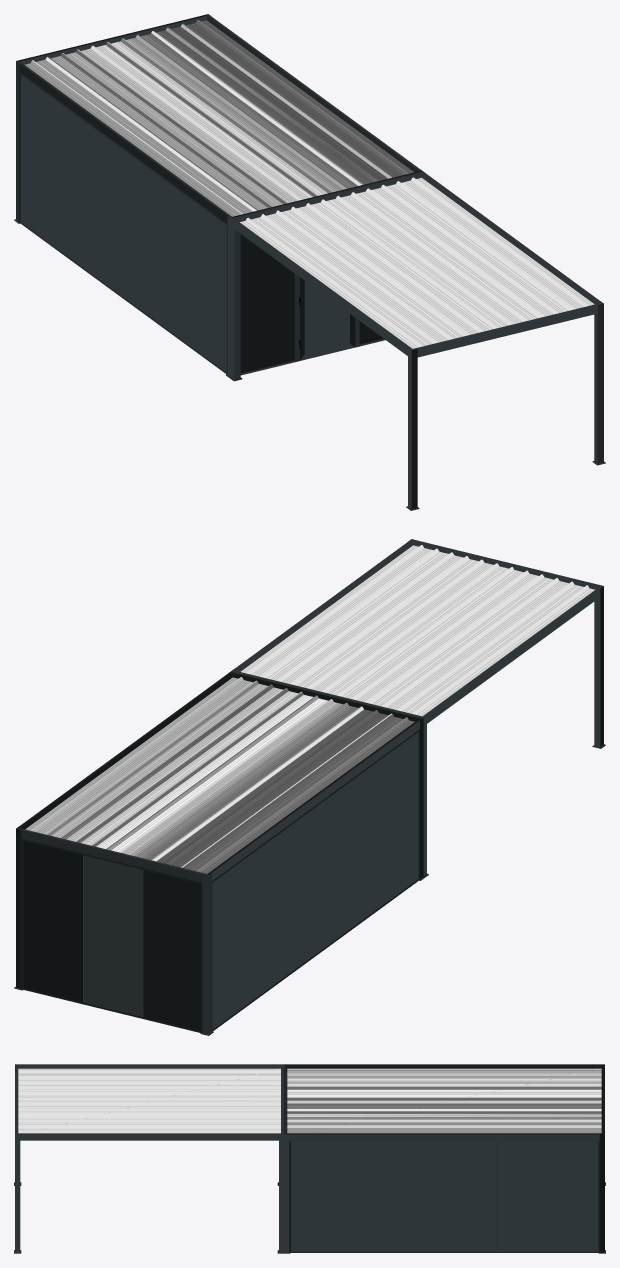
File: 13443_carport5x3abri6x3.fbx
3 renders of one model, top to bottom at view 1: azimuth 30°, elevation 25°; view 2: azimuth 150°, elevation 25°; view 3: azimuth 270°, elevation 25°, orthographic. The views are drawn at different scales.
Parts seen in each view (by area): view 1: priximbattable_net_abris_de_voiture_13443_module_carport_abr, folha; view 2: priximbattable_net_abris_de_voiture_13443_module_carport_abr; view 3: priximbattable_net_abris_de_voiture_13443_module_carport_abr.
Boxes of the visible parts, x1,y1,x2,y2 form: priximbattable_net_abris_de_voiture_13443_module_carport_abr: (14,14,605,510); folha: (299,277,355,360); priximbattable_net_abris_de_voiture_13443_module_carport_abr: (14,539,605,1035); priximbattable_net_abris_de_voiture_13443_module_carport_abr: (14,1064,605,1253).
Bounding box in the file's own units: 324 × 254 × 1144.
Materials: 1 (1 with a texture image).
